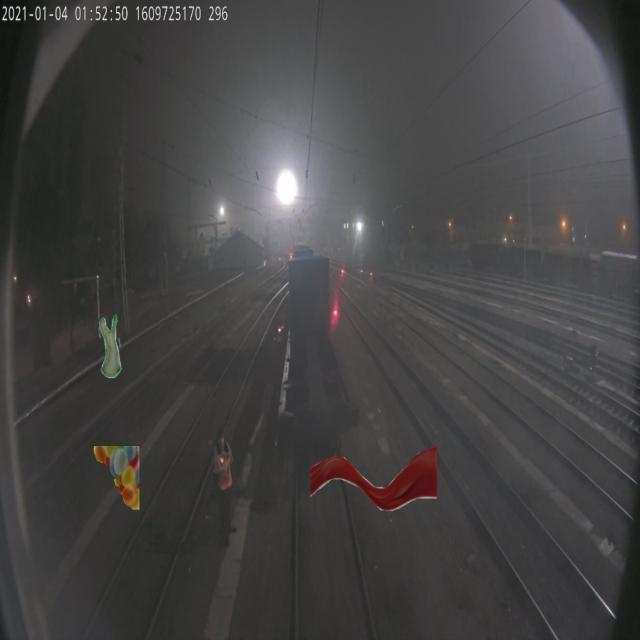balloon: (94, 446, 139, 510)
floating object: (310, 447, 437, 511)
plastic bag: (99, 314, 122, 378)
